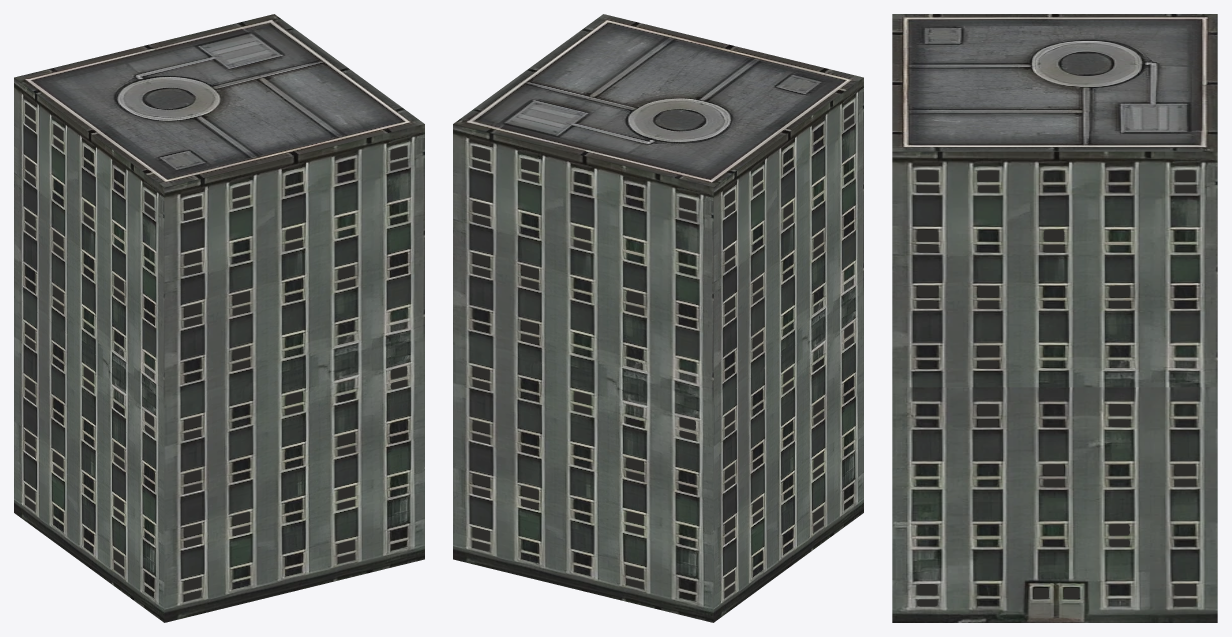
Rendered from city8storyb_hdtex.glb.
3 renders of one model, left to right at view 1: azimuth 30°, elevation 25°; view 2: azimuth 150°, elevation 25°; view 3: azimuth 270°, elevation 25°, orthographic. The views are drawn at different scales.
Visible parts, largest first — view 1: CityBlock8Story_A, LitWin_City8Story; view 2: CityBlock8Story_A, LitWin_City8Story; view 3: CityBlock8Story_A, LitWin_City8Story.
Part boxes in pixels (x1,y1,x2,y2): CityBlock8Story_A: (14, 14, 424, 622); LitWin_City8Story: (25, 104, 407, 600); CityBlock8Story_A: (453, 14, 863, 622); LitWin_City8Story: (473, 103, 853, 596); CityBlock8Story_A: (892, 14, 1217, 622); LitWin_City8Story: (917, 170, 1195, 606).
Size of the model in its own units: 17.76 by 28.37 by 17.76.
1 material, 1 textured.
